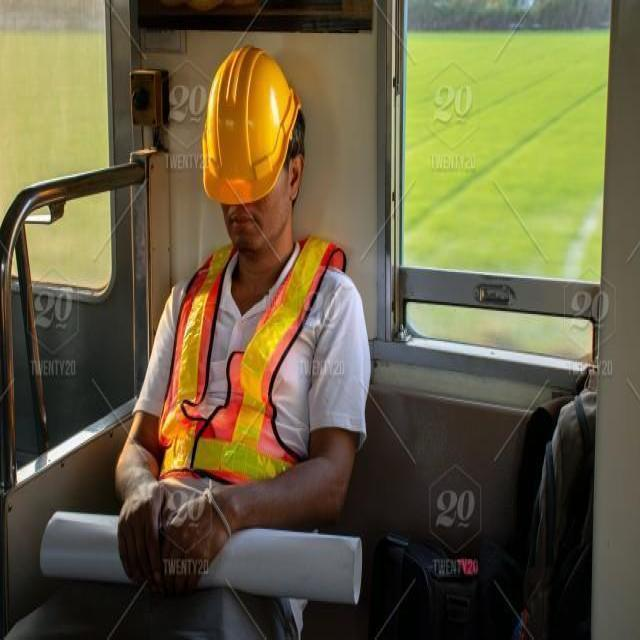Vest: (147, 236, 351, 527)
